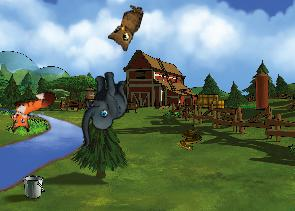elephant: (67, 68, 137, 148)
fox: (3, 88, 62, 136)
owl: (105, 0, 144, 52)
